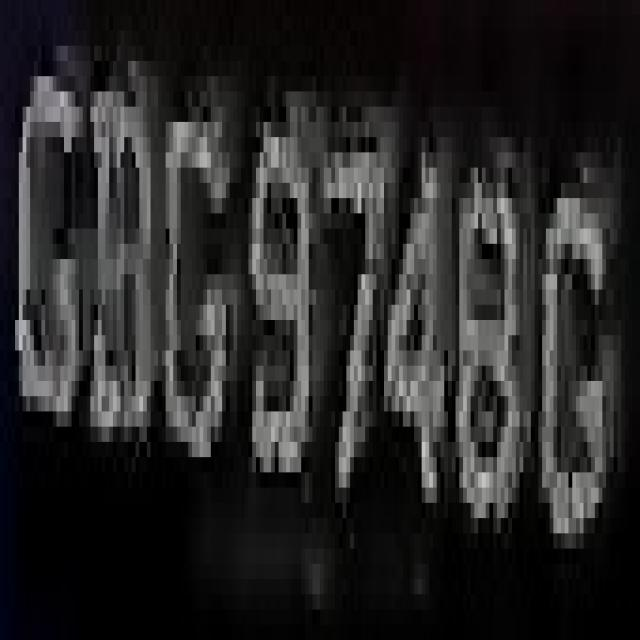4: (388, 76, 452, 564)
7: (305, 76, 384, 518)
8: (444, 122, 527, 548)
9: (237, 61, 313, 533)
B: (79, 107, 158, 503)
G: (538, 122, 614, 564), (147, 61, 226, 472), (19, 61, 79, 457)
